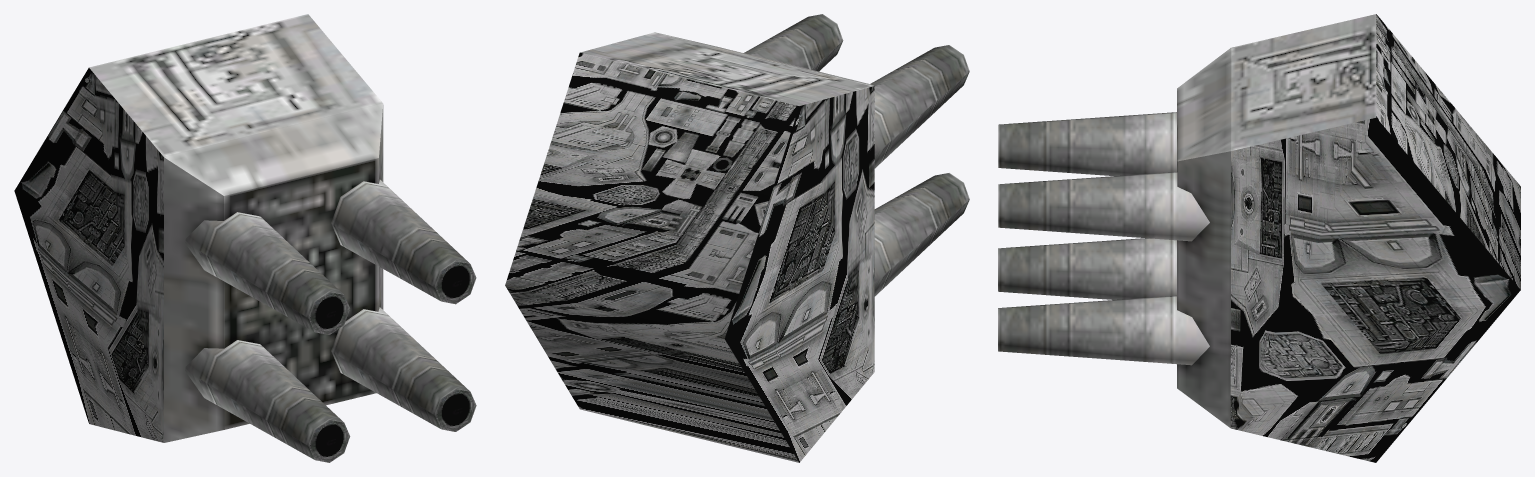
File: star_destroyer_turret_med_gun_l0.fbx
3 renders of one model, left to right at view 1: azimuth 30°, elevation 25°; view 2: azimuth 150°, elevation 25°; view 3: azimuth 270°, elevation 25°, orthographic. The views are drawn at different scales.
Parts seen in each view (by area): view 1: mesh_node; view 2: mesh_node; view 3: mesh_node.
Part boxes in pixels (x1=…): mesh_node: x1=14, y1=14, x2=476, y2=462; mesh_node: x1=505, y1=14, x2=969, y2=462; mesh_node: x1=998, y1=14, x2=1520, y2=462.
Size of the model in its own units: 5.24 by 8.13 by 11.16.
Materials: 1 (1 with a texture image).
